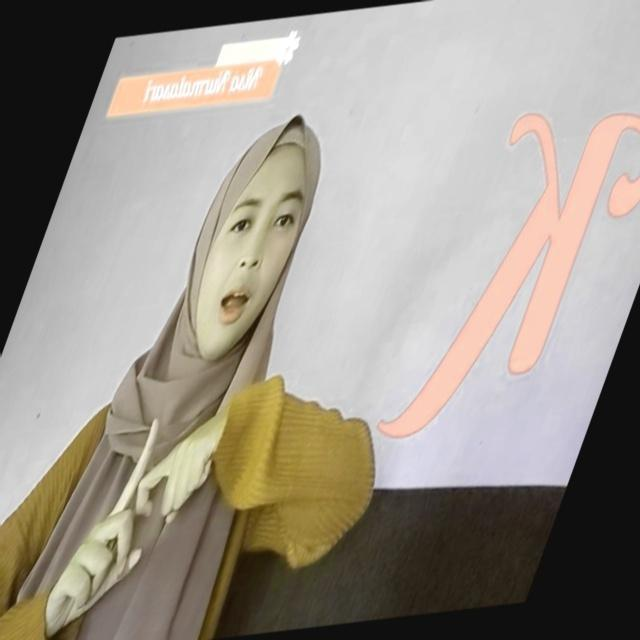K: (42, 403, 222, 640)
